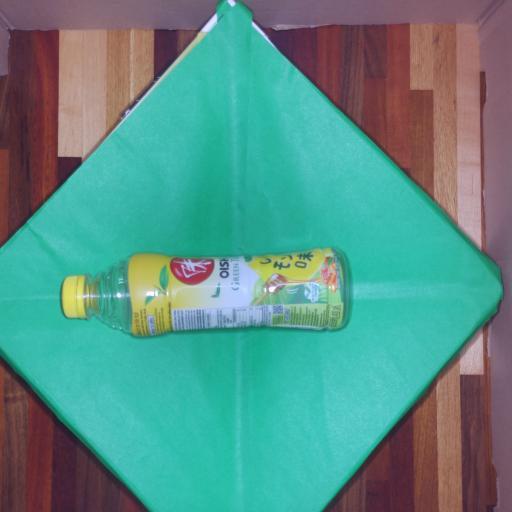bottle: (64, 253, 348, 334)
